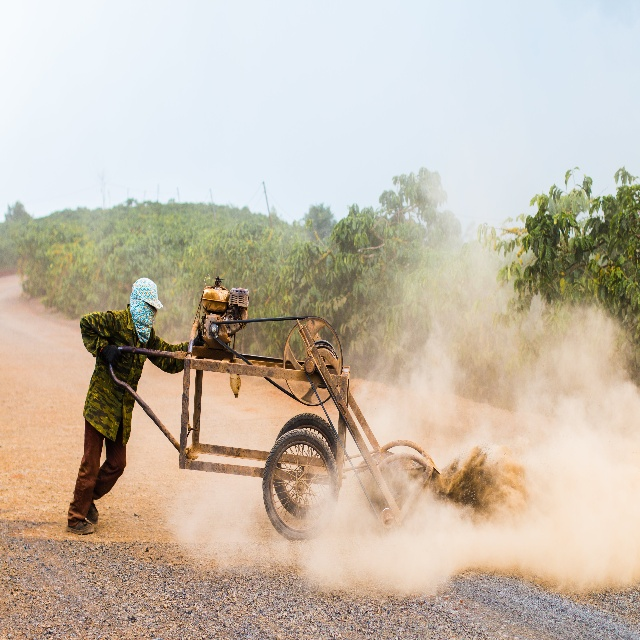Guantes: (98, 344, 122, 369), (194, 334, 204, 346)
